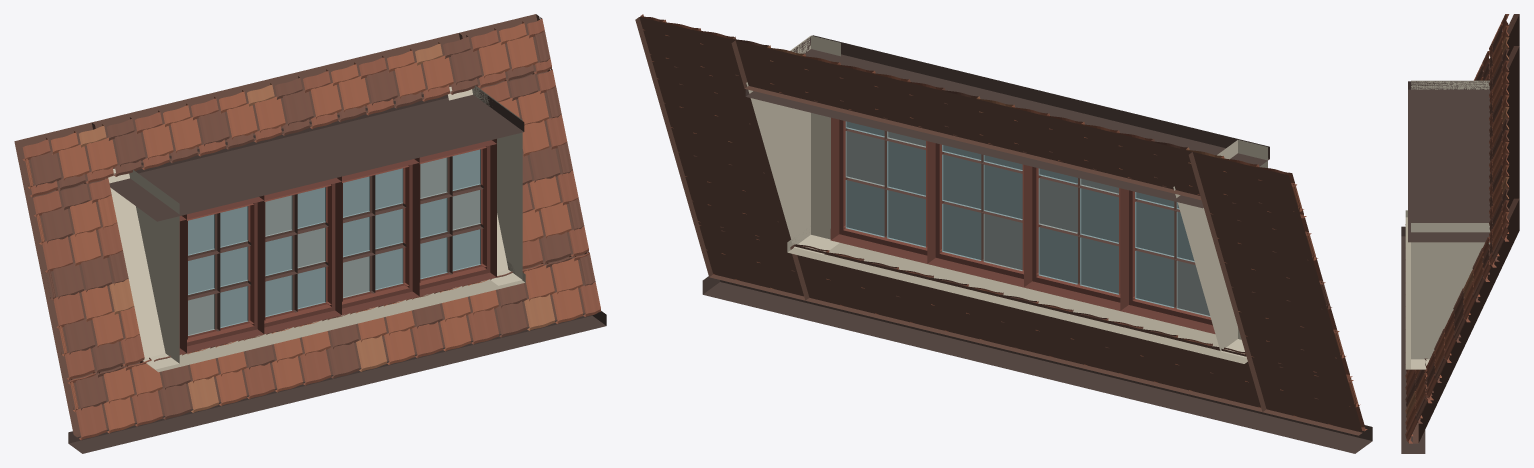
The model's file is jingan-siming-villas-yuyuan-dormer-web.glb.
3 views of the same model, side by side, from view 1: azimuth 30°, elevation 25°; view 2: azimuth 150°, elevation 25°; view 3: azimuth 270°, elevation 25° (orthographic). The views are drawn at different scales.
Visible parts, largest first — view 1: 四明别墅临愚园路红瓦坡与四扇阁楼窗; view 2: 四明别墅临愚园路红瓦坡与四扇阁楼窗; view 3: 四明别墅临愚园路红瓦坡与四扇阁楼窗.
Boxes of the visible parts, x1,y1,x2,y2 form: 四明别墅临愚园路红瓦坡与四扇阁楼窗: (14, 14, 606, 453); 四明别墅临愚园路红瓦坡与四扇阁楼窗: (635, 14, 1372, 453); 四明别墅临愚园路红瓦坡与四扇阁楼窗: (1401, 14, 1519, 453).
Bounding box in the file's own units: 4.34 × 2.07 × 0.9954.
